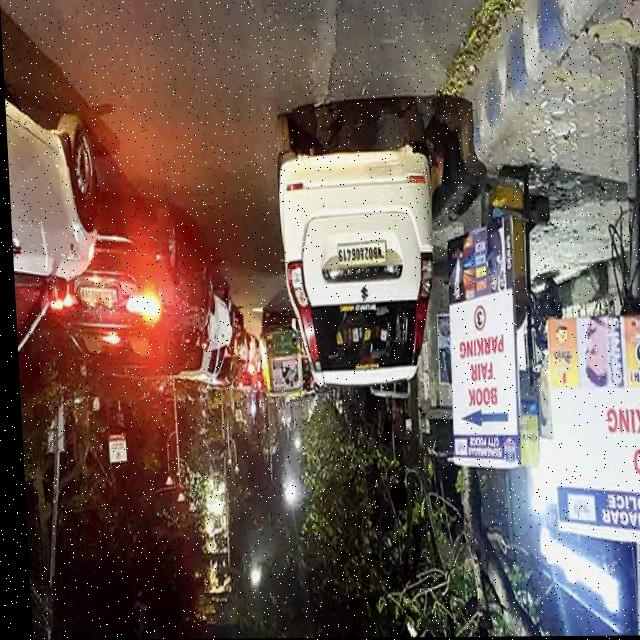plate: (332, 237, 388, 269), (73, 283, 118, 309)
